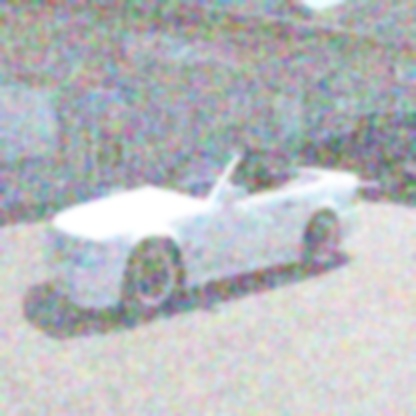Vehicle: (41, 141, 363, 318)
